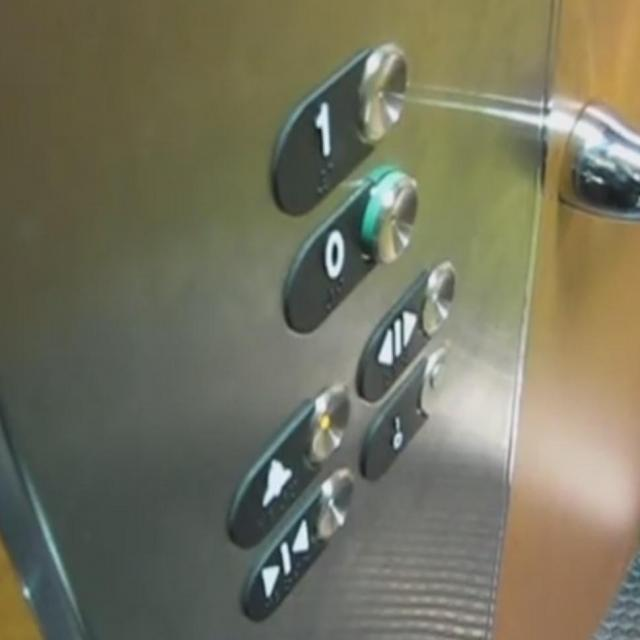0: (284, 163, 419, 336)
1: (269, 32, 409, 215)
alarm: (224, 372, 350, 542)
close: (244, 470, 357, 621)
key: (354, 347, 452, 481)
open: (358, 255, 457, 402)
